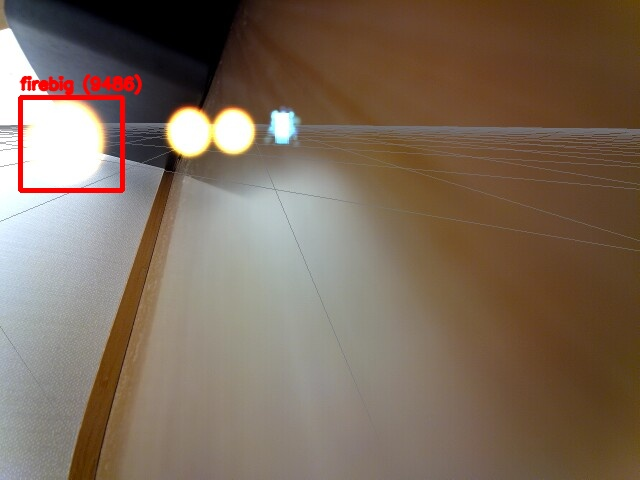firebig: (20, 97, 122, 190)
